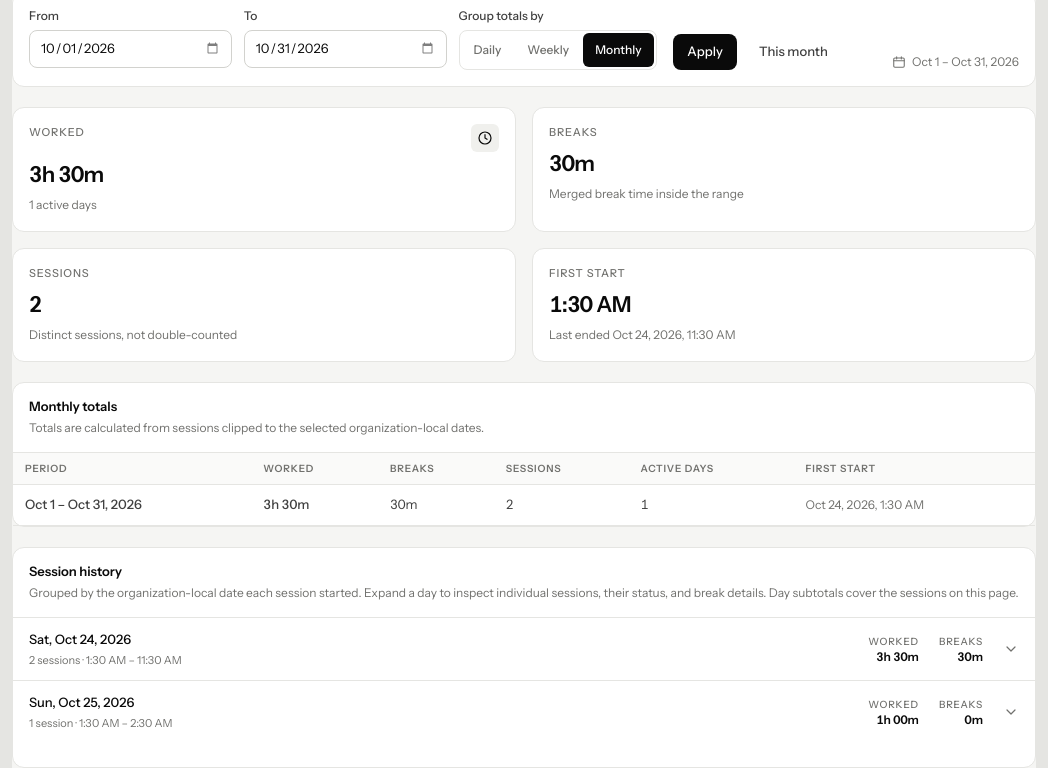
AttendanceView › groups sessions by organization-local date and expands a day
(page scrolled)
Expected: the button that starts with "Sun, Oct 25, 2026" is shown, [13, 681, 1035, 743]
What coordinates should you click on to do the following:
click the button that starts with "Sat, Oct 24, 2026"
I would click on:
 (80, 639)
Its box is [13, 618, 1035, 680].
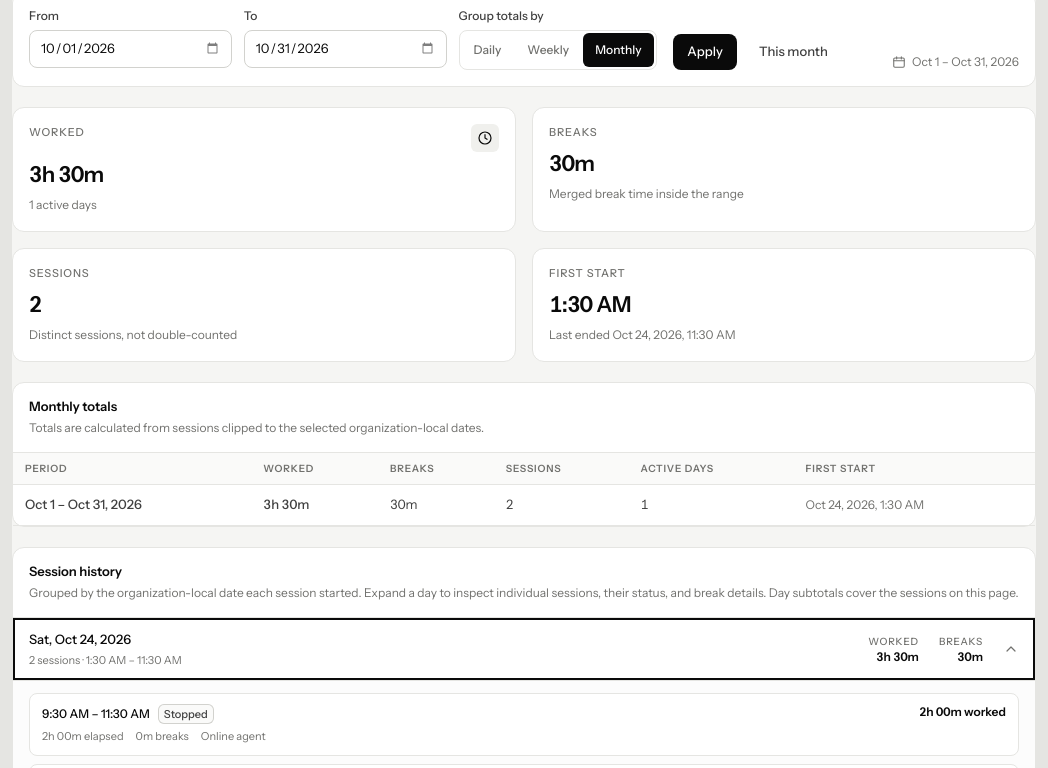
Expected: the button that starts with "Sat, Oct 24, 2026" is expanded
Expected: the text "2h 00m worked" is shown, [919, 704, 1006, 720]
What coordinates should you click on to do the following:
click the button that starts with "Sat, Oct 24, 2026"
I would click on:
 (80, 639)
Its box is [13, 618, 1035, 680].
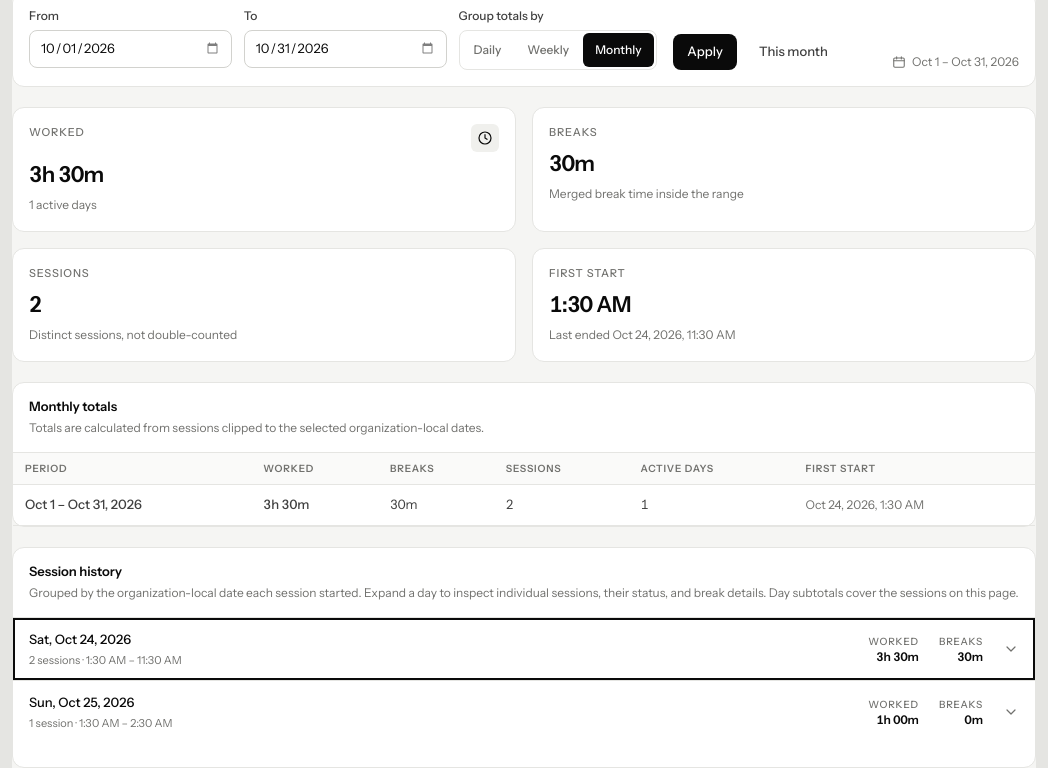
Expected: the button that starts with "Sat, Oct 24, 2026" is collapsed, [13, 618, 1035, 680]
